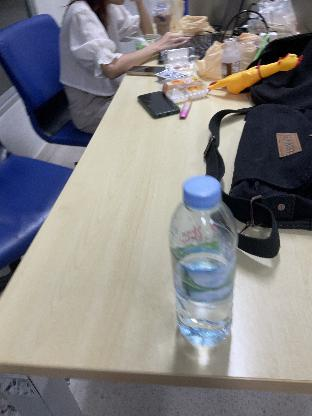Plastic Bottle: (165, 172, 239, 358)
